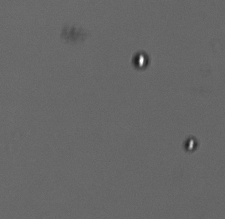Living Cell: (130, 49, 155, 73), (183, 134, 198, 151)
